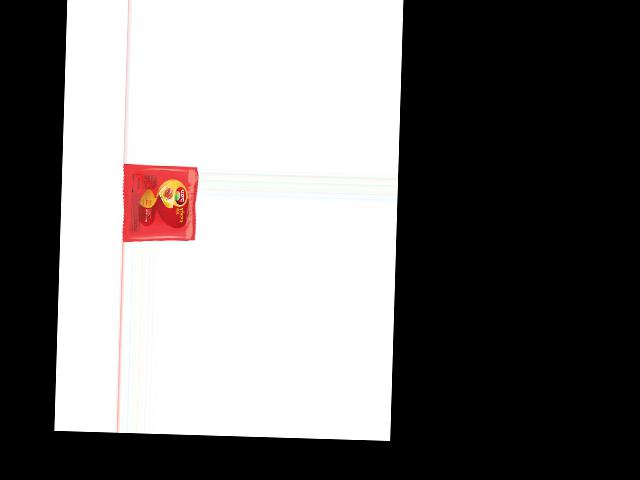cheese: (120, 163, 197, 241)
